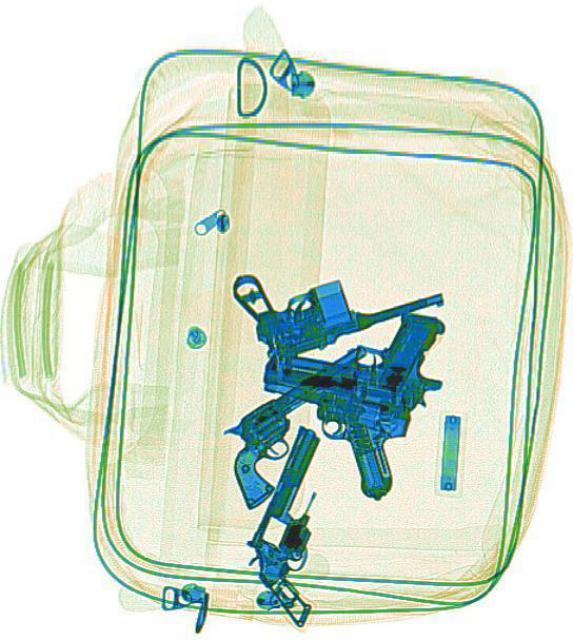Gun: (204, 340, 405, 512), (226, 215, 447, 369), (223, 420, 372, 628), (258, 278, 455, 424), (242, 374, 413, 502)
